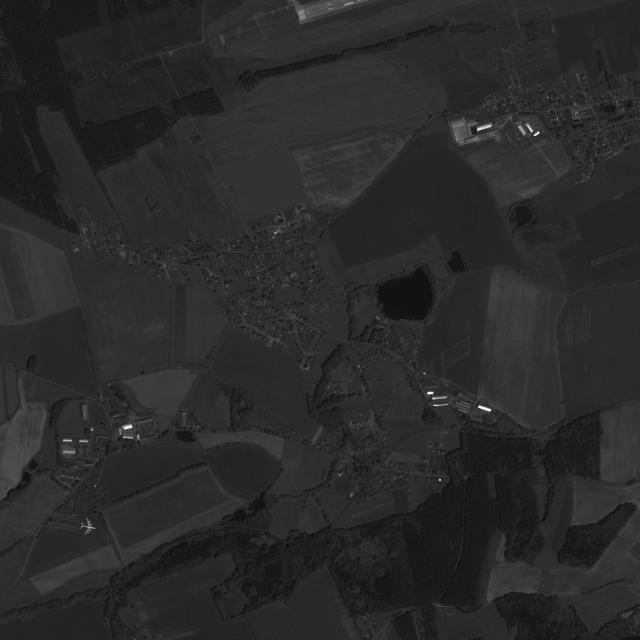plane: (78, 517, 98, 537)
